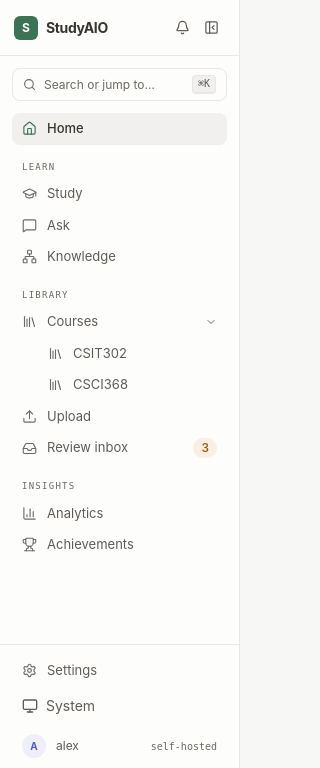
Test: Sidebar › collapses the course list when the Courses disclosure is toggled
Click the button "Courses" at [120, 322], box [12,306,227,338]
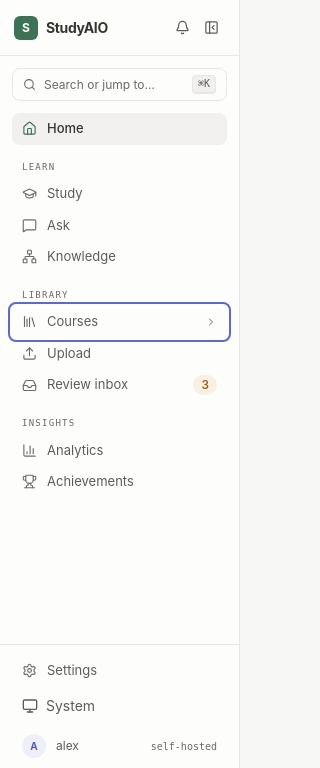
Expected: the link "CSIT302" is gone
